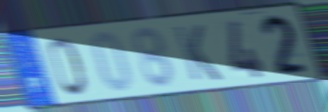0: (90, 30, 135, 94), (47, 36, 88, 97)
2: (259, 12, 314, 79)
4: (226, 17, 266, 81)
8: (131, 24, 178, 91)
K: (171, 23, 225, 83)
